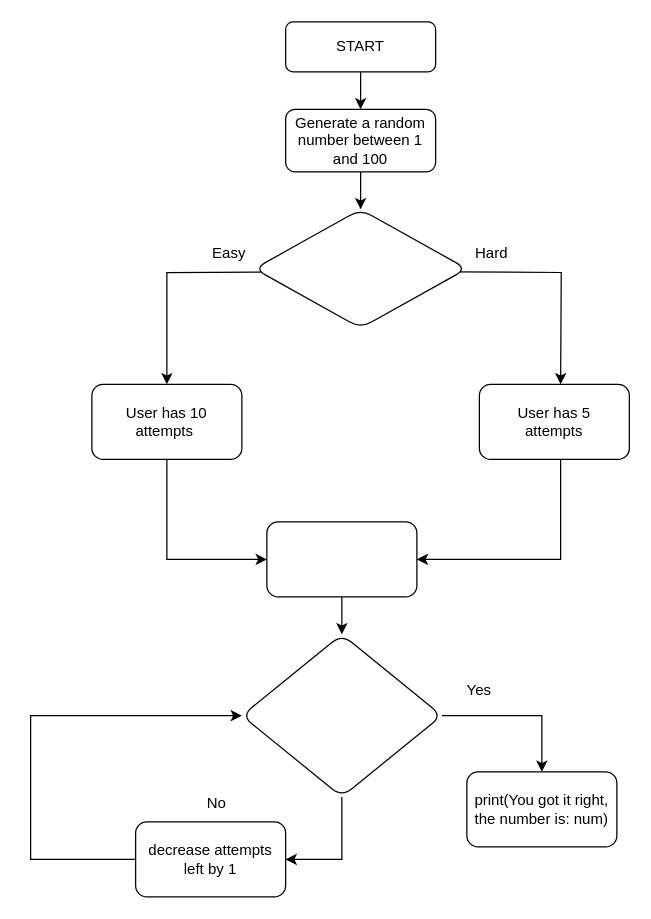
This 651x919 diagram has some shape labels left out. Each missing label, with the centre of its shape:
"Ask user to make a guess" goes at [341,559].
"Did user guess right?" goes at [341,715].
"Pick difficulty level: easy or hard?" goes at [360,268].
